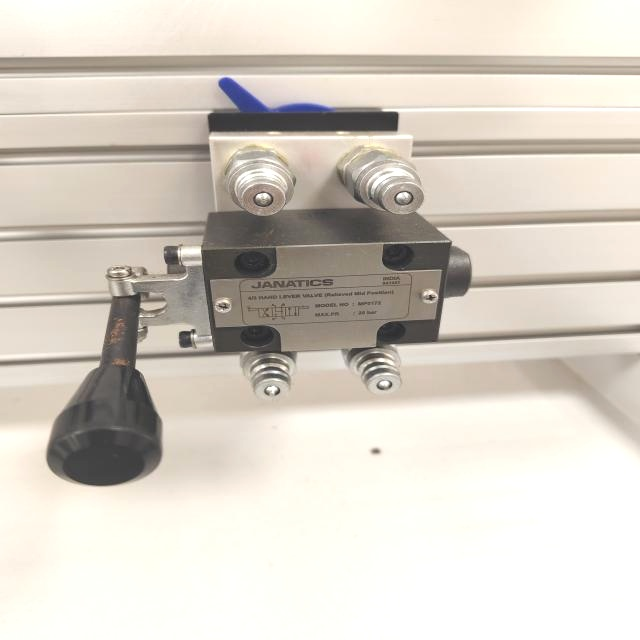4by3 hand lever valve: (42, 79, 482, 493)
